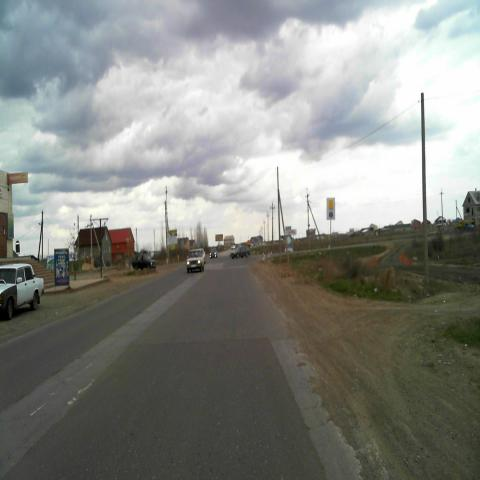4_8_2: (327, 197, 335, 220)
